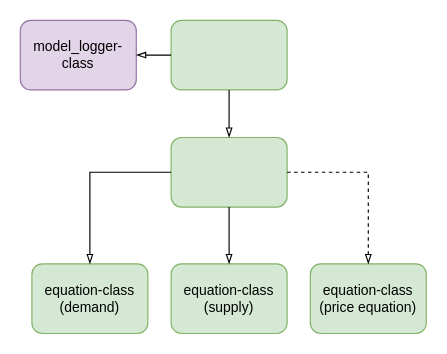
This 447x354 diagram has some shape labels left out. Here are the shapes that lost their labels. From the top down, the box of each, then its label:
(170, 19, 287, 90): market_model-class
(170, 136, 287, 207): system-class
